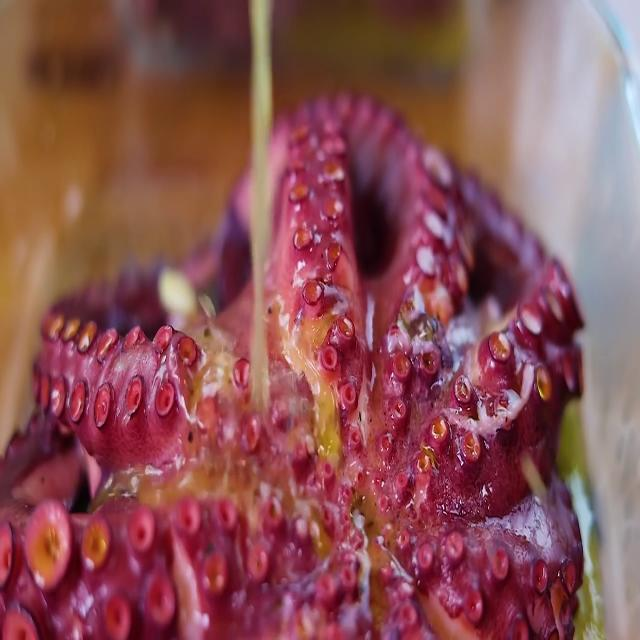octopus: (0, 97, 586, 640)
